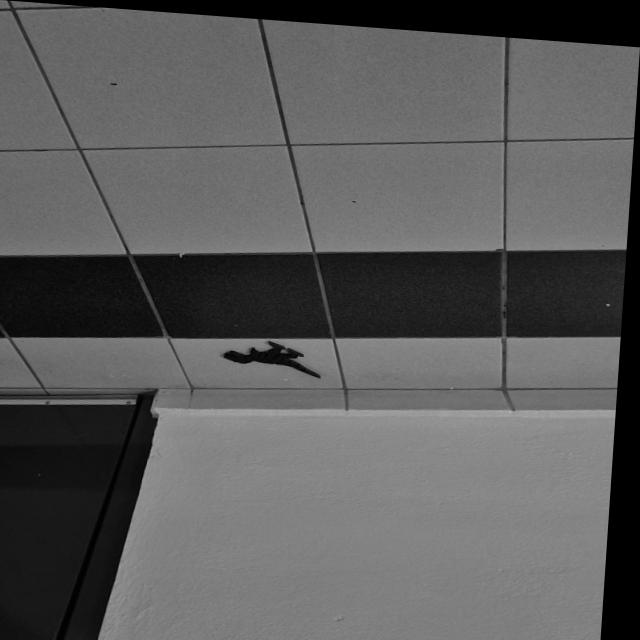dino: (222, 338, 324, 379)
